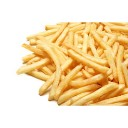frenchfries: (15, 23, 128, 107)
